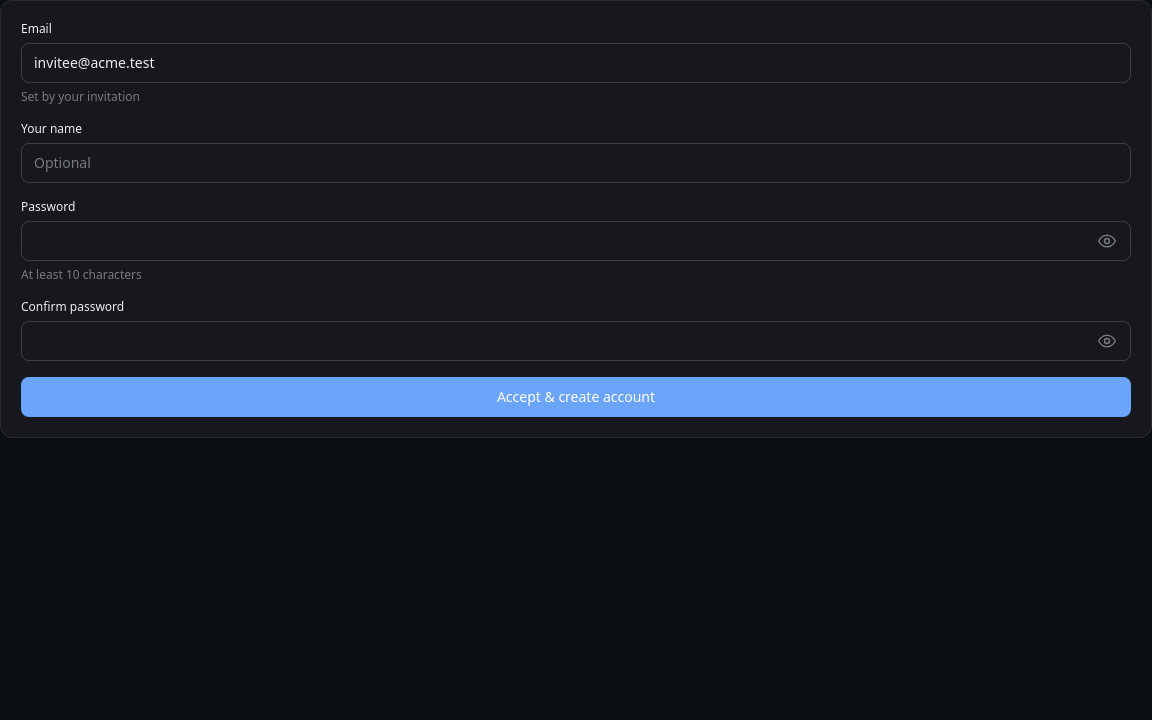
Test: AcceptForm › keeps the name and passwords visible after a server error
Type "Jo Rivera" into the field labelled "Your name" at (576, 163), box [21,143,1131,183]
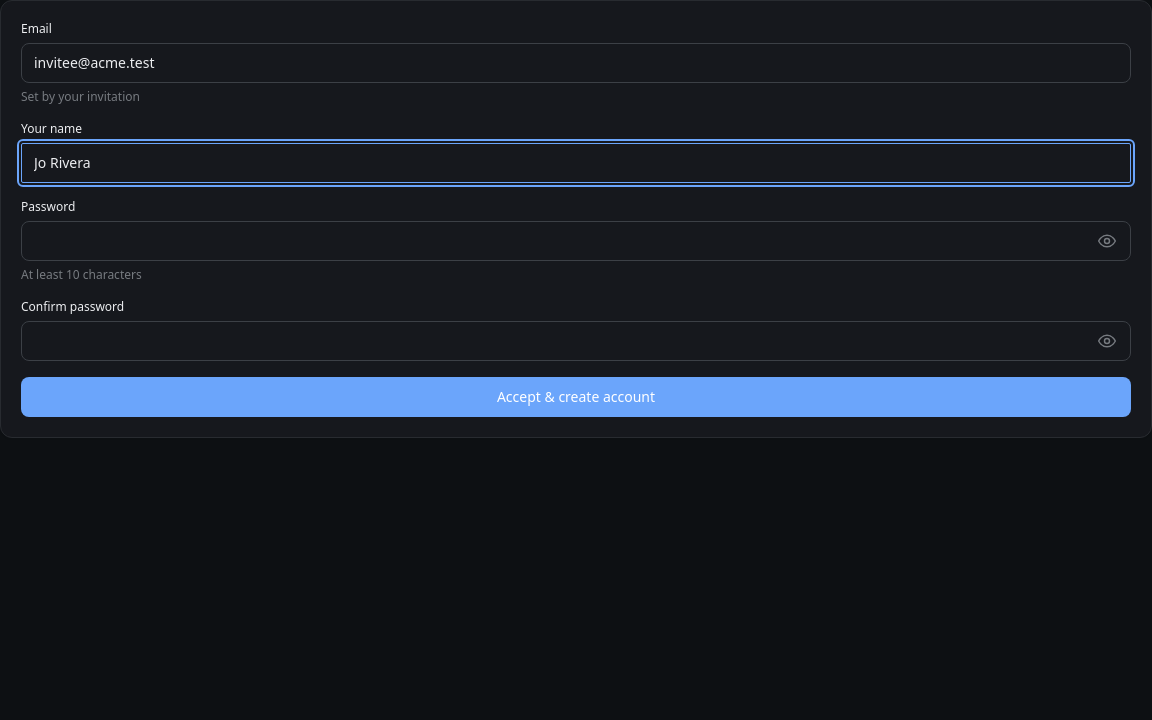
Type "correct horse battery staple" into the password field labelled "Password" at (576, 241), box [21,221,1131,261]
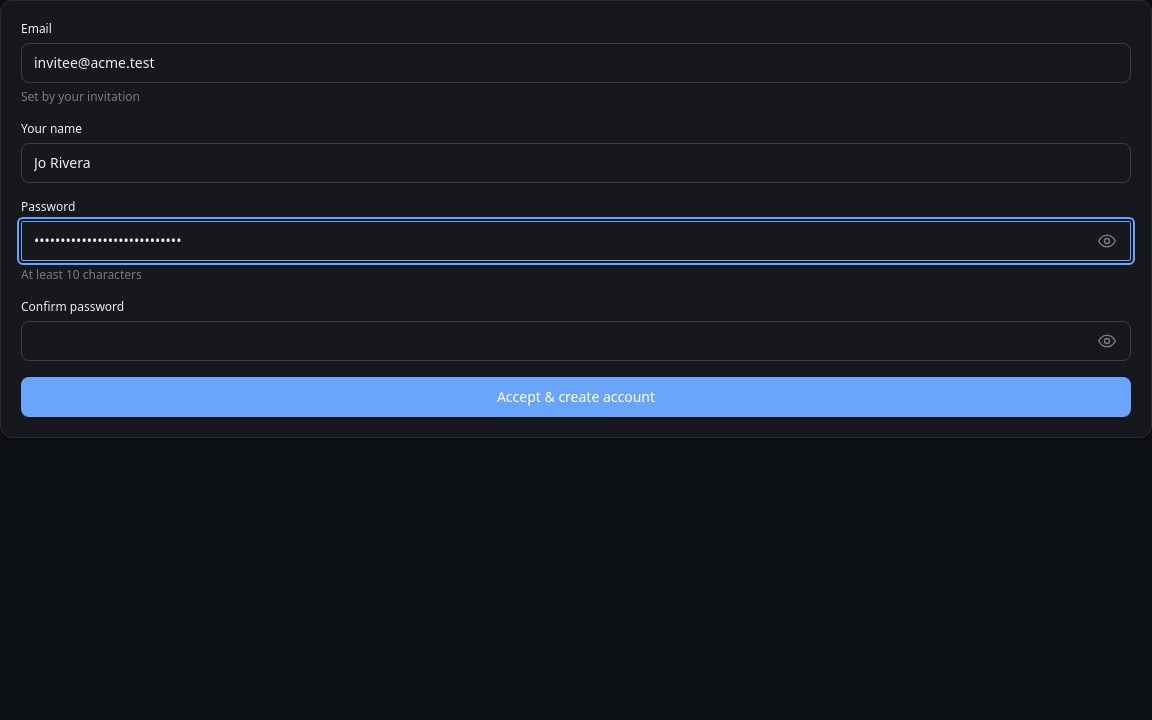
Type "correct horse battery staple" into the password field labelled "Confirm password" at (576, 341), box [21,321,1131,361]
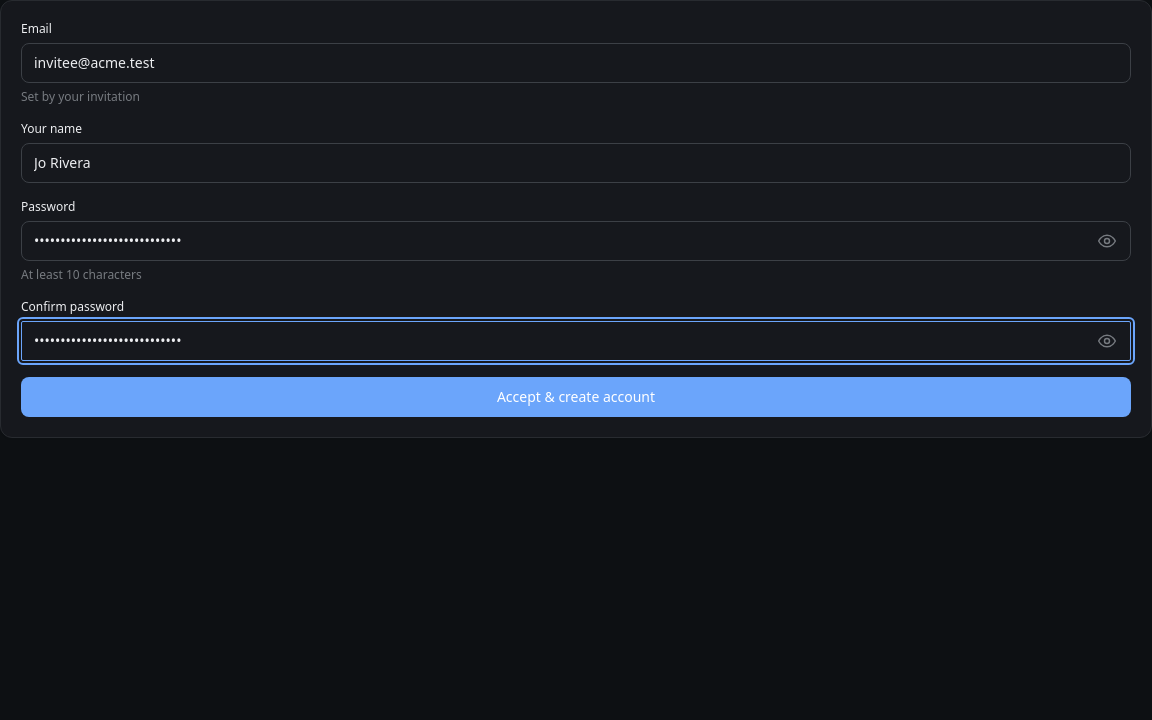
Click the button "Accept & create account" at (576, 397), box [21,377,1131,417]
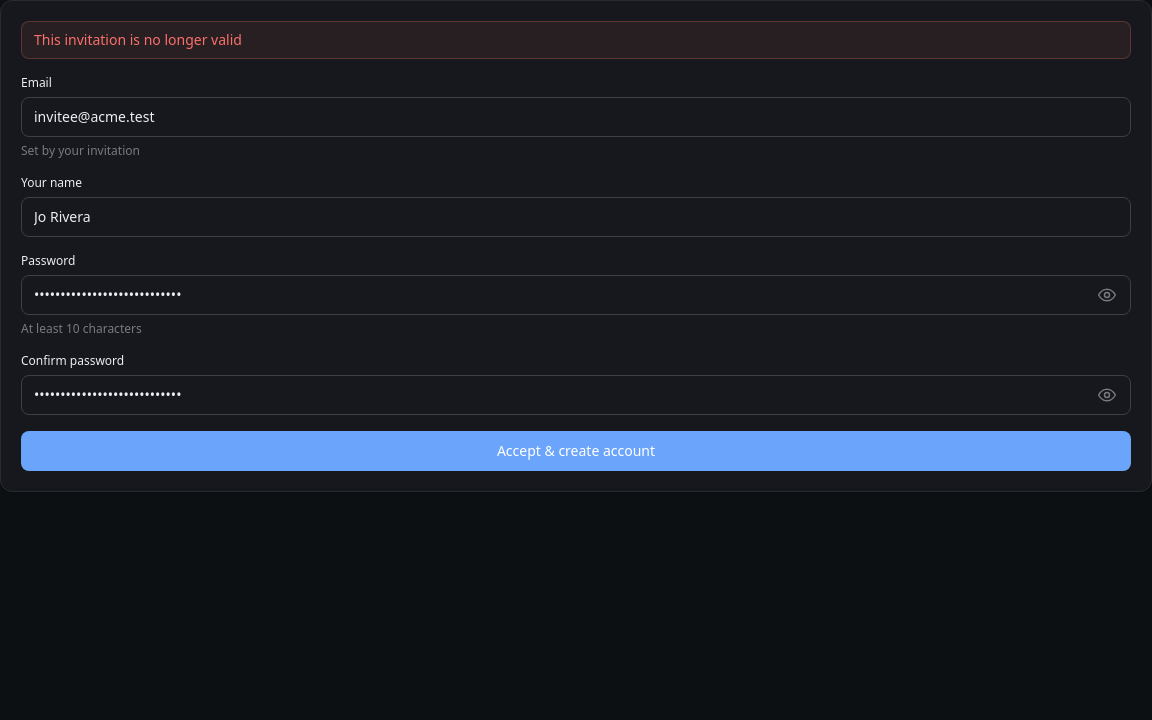
Check: the field labelled "Email" holds "invitee@acme.test", box [21,97,1131,137]
Check: the text "This invitation is no longer valid" is shown, box [21,21,1131,59]
